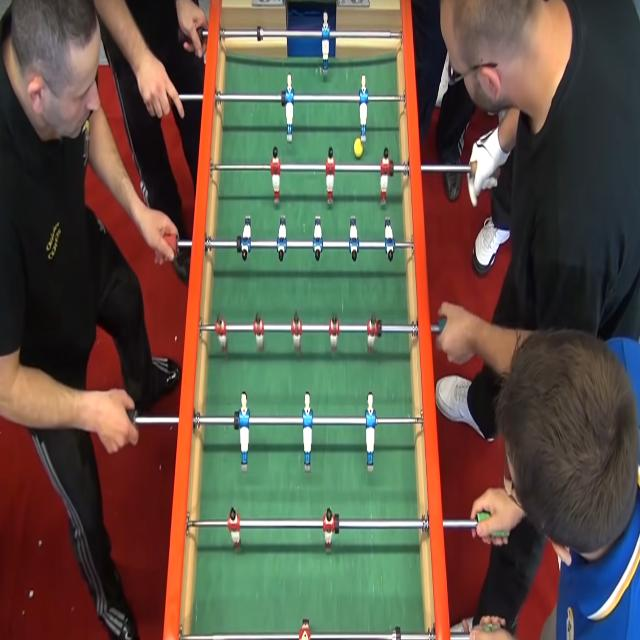ball: (350, 139, 372, 162)
